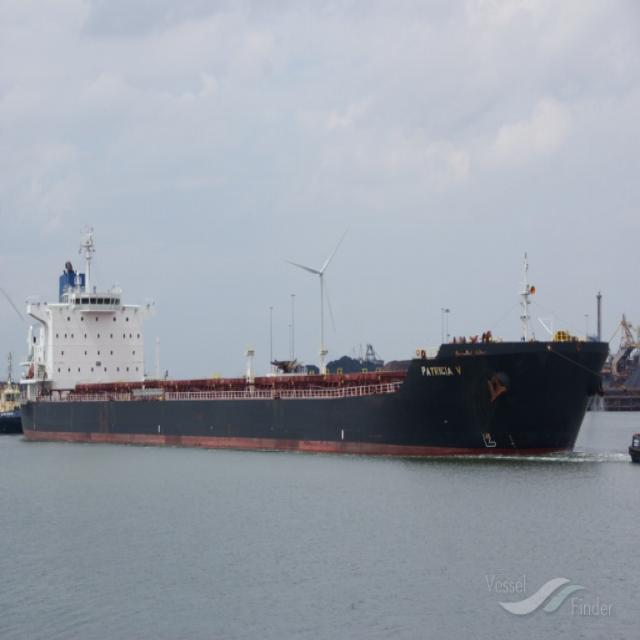OCR: (416, 357, 468, 380)
